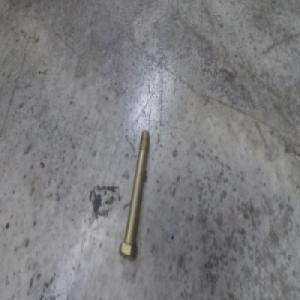Bolt: (119, 128, 150, 261)
